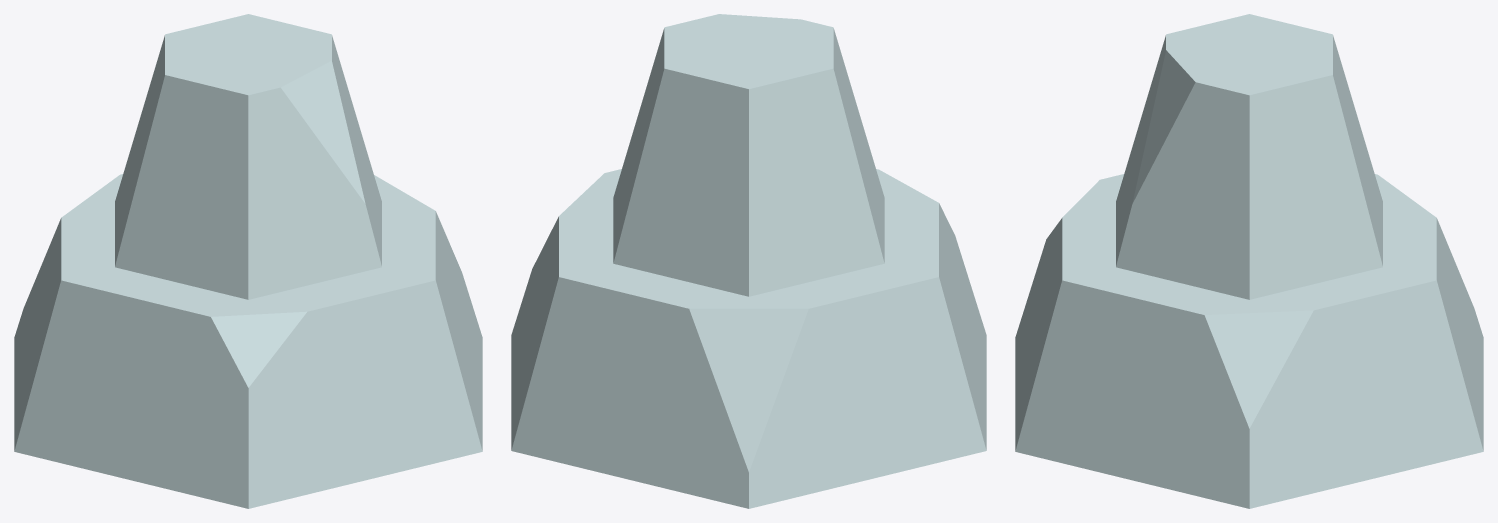
File: stone_small6.glb
3 views of the same model, side by side, from view 1: azimuth 30°, elevation 25°; view 2: azimuth 150°, elevation 25°; view 3: azimuth 270°, elevation 25° (orthographic).
Visible parts, largest first — view 1: stone_small6; view 2: stone_small6; view 3: stone_small6.
Part boxes in pixels (x1,y1,x2,y2): stone_small6: (14, 14, 482, 508); stone_small6: (511, 14, 986, 508); stone_small6: (1015, 14, 1483, 508).
Bounding box in the file's own units: 0.3536 × 0.2453 × 0.3062.
